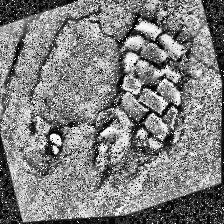pothole: (93, 6, 211, 164)
